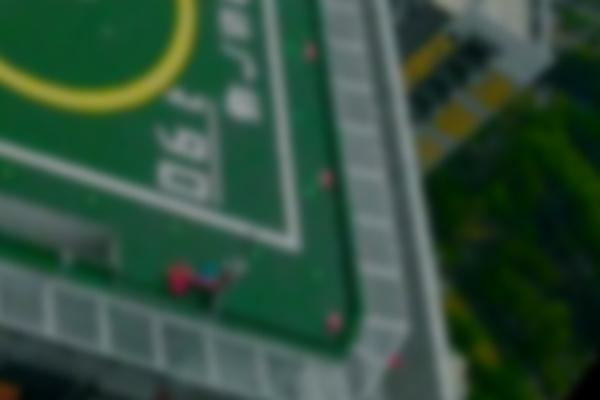Apron: (1, 3, 203, 121)
